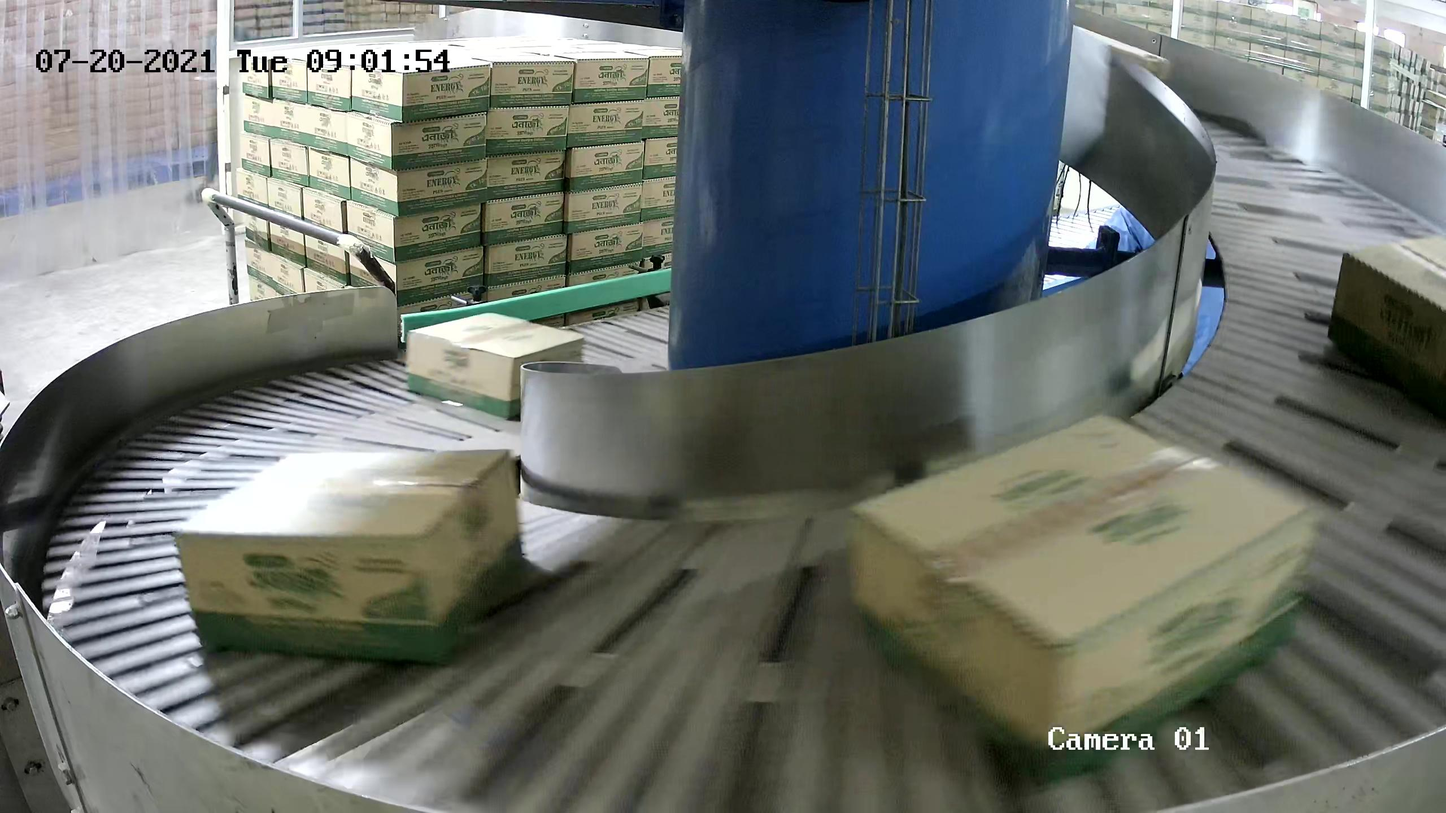Box: (849, 408, 1315, 787), (172, 446, 527, 672), (1324, 226, 1446, 447), (406, 311, 585, 423)
